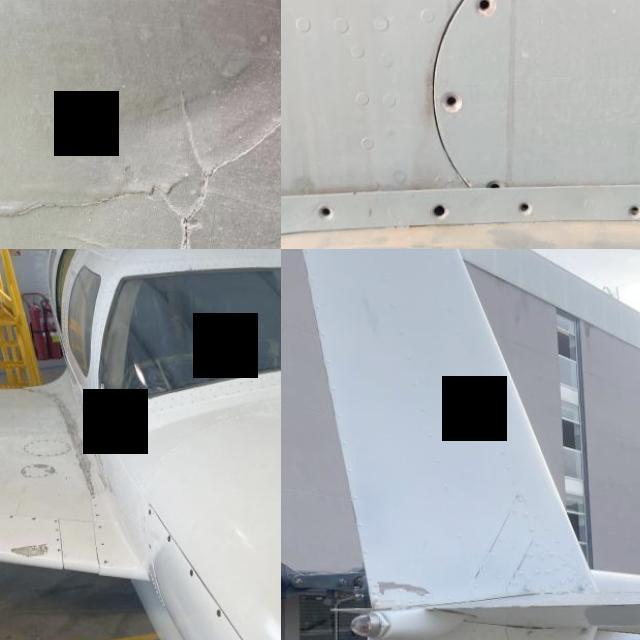Crack: (67, 52, 281, 249), (369, 584, 381, 588)
Missing_Fastener: (471, 159, 521, 205), (428, 78, 475, 126), (304, 189, 346, 231), (420, 188, 462, 230), (457, 0, 509, 30), (510, 188, 546, 222), (616, 189, 640, 225), (104, 559, 110, 565), (98, 524, 104, 529), (54, 538, 60, 541), (94, 502, 98, 506), (57, 548, 61, 552), (94, 514, 100, 516), (92, 496, 97, 498)
